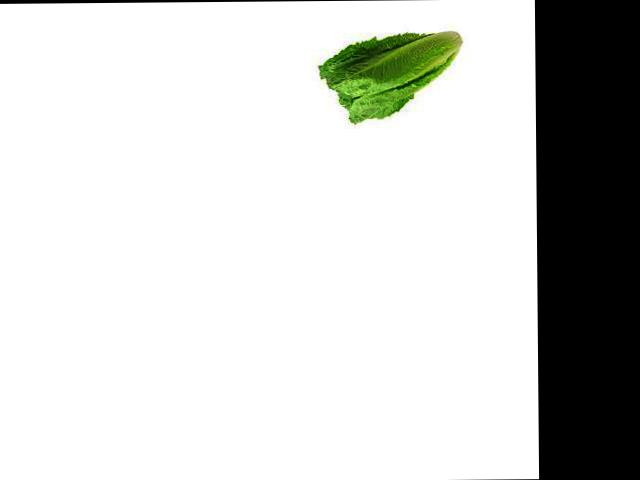lettuce: (295, 1, 450, 132)
